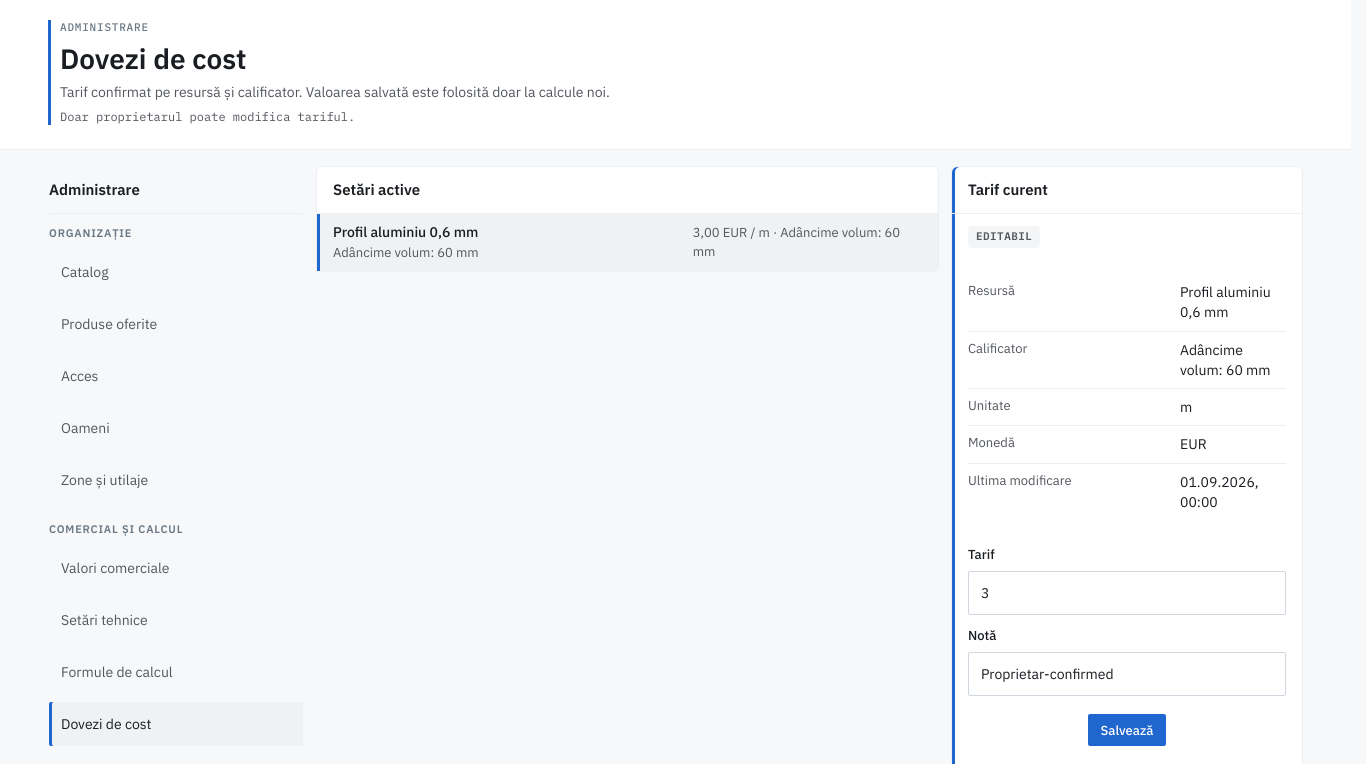
Test: ResourcesAdminPage › presents a recoverable stale conflict
The width and height of the screenshot is (1366, 764).
Check: the field labelled "Tarif" is shown, box [968,571,1286,615]
Click the button "Salvează": (1127, 730) [968,708,1286,752]
(page scrolled)
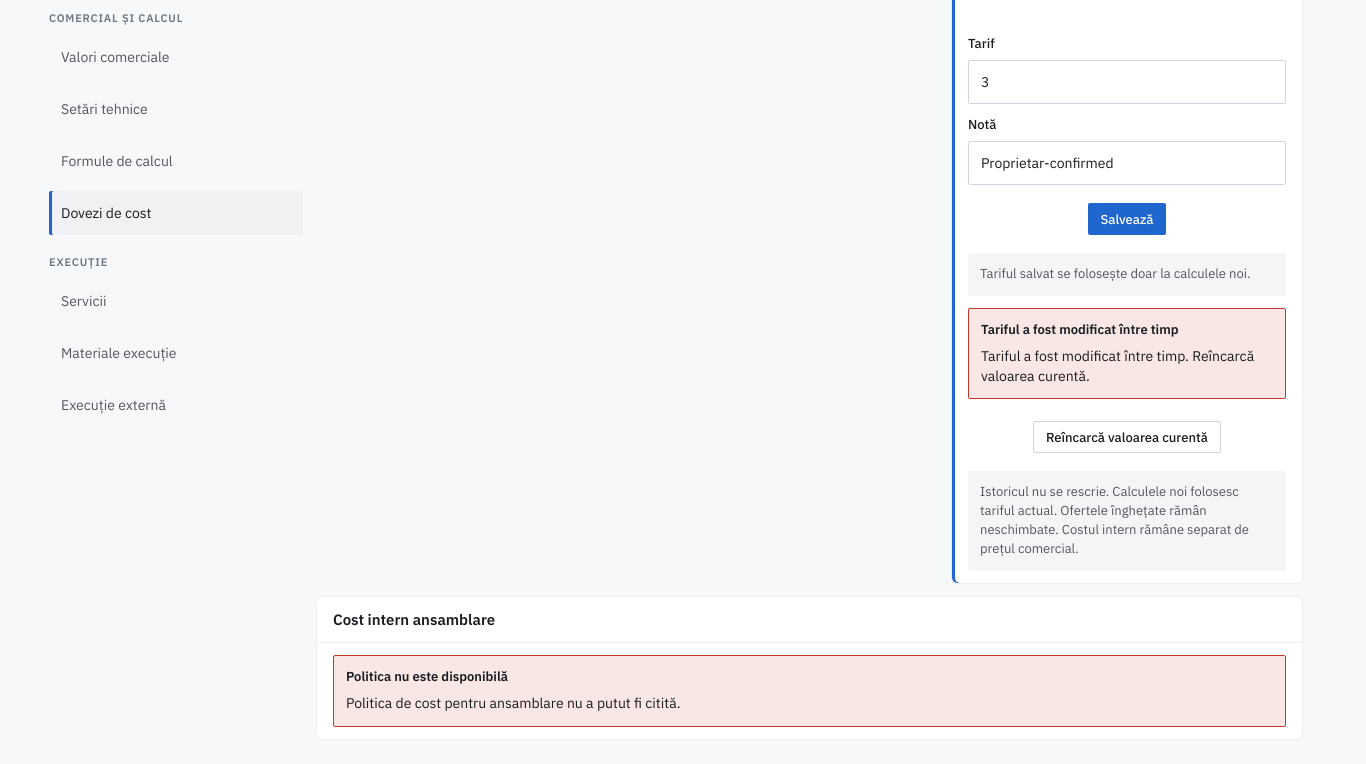
Check: the text "Tariful a fost modificat între timp. Reîncarcă valoarea curentă." is shown, box [981,346,1273,386]
Check: the button "Reîncarcă valoarea curentă" is enabled, box [968,415,1286,459]
